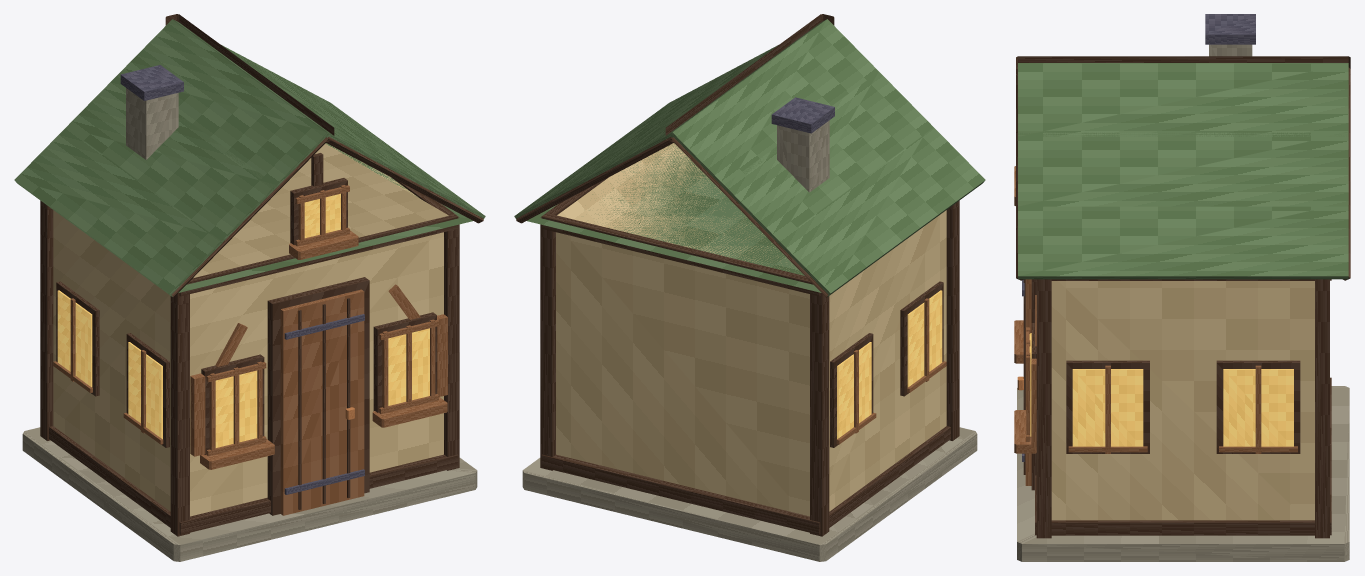
Rendered from Maison_Toit_Vert.glb.
The picture shows the model from 3 angles, left to right: view 1: azimuth 30°, elevation 25°; view 2: azimuth 150°, elevation 25°; view 3: azimuth 270°, elevation 25°; orthographic projection. The views are drawn at different scales.
Visible parts, largest first — view 1: Structure; view 2: Structure; view 3: Structure.
Boxes of the visible parts, x1=… form: Structure: x1=14, y1=14, x2=485, y2=561; Structure: x1=514, y1=14, x2=985, y2=561; Structure: x1=1014, y1=14, x2=1350, y2=561.
Bounding box in the file's own units: 4.69 × 5.61 × 4.05.
2 materials, 2 textured.
